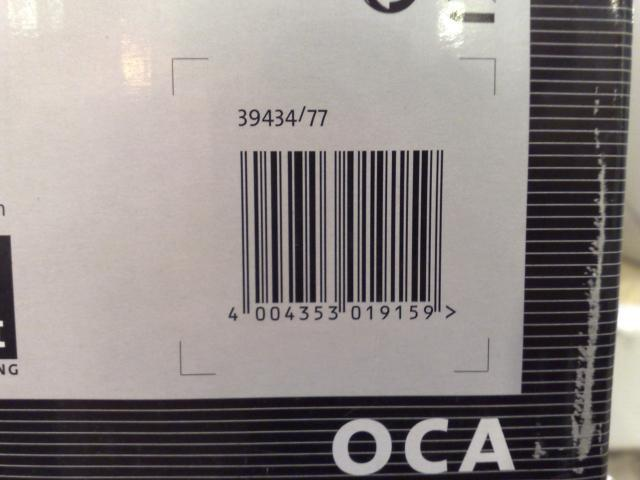Barcode: (219, 147, 466, 333)
